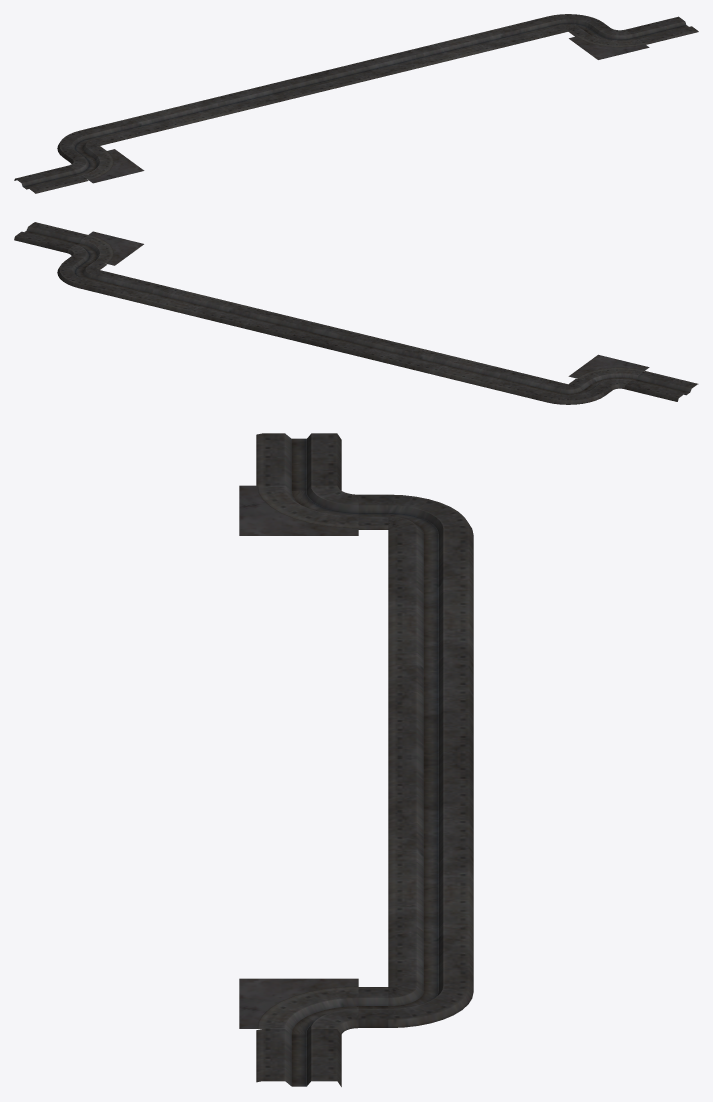
File: lab_floor_welder_windowpillar_noyellow.dae
3 views of the same model, one above another, from view 1: azimuth 30°, elevation 25°; view 2: azimuth 150°, elevation 25°; view 3: azimuth 270°, elevation 25° (orthographic). The views are drawn at different scales.
Parts seen in each view (by area): view 1: floor_welder_windowpillar_noyellow; view 2: floor_welder_windowpillar_noyellow; view 3: floor_welder_windowpillar_noyellow.
Boxes of the visible parts, x1,y1,x2,y2 form: floor_welder_windowpillar_noyellow: [14, 14, 698, 193]; floor_welder_windowpillar_noyellow: [14, 222, 698, 404]; floor_welder_windowpillar_noyellow: [239, 433, 473, 1086].
Size of the model in its own units: 5.62 by 0.0254 by 0.8594.
